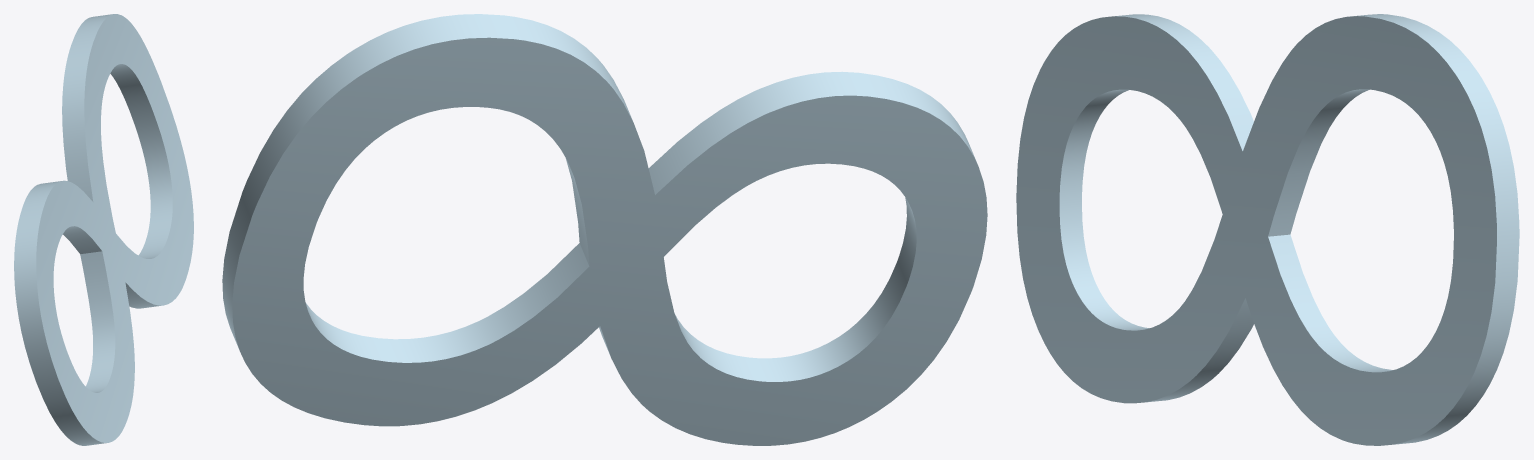
File: Number_8.gltf
The picture shows the model from 3 angles, left to right: view 1: azimuth 30°, elevation 25°; view 2: azimuth 150°, elevation 25°; view 3: azimuth 270°, elevation 25°; orthographic projection. The views are drawn at different scales.
Parts seen in each view (by area): view 1: Sub_2_Cell_3_3_Number_8; view 2: Sub_2_Cell_3_3_Number_8; view 3: Sub_2_Cell_3_3_Number_8.
Boxes of the visible parts, <box> form: Sub_2_Cell_3_3_Number_8: <box>14,14,193,445</box>; Sub_2_Cell_3_3_Number_8: <box>222,14,987,445</box>; Sub_2_Cell_3_3_Number_8: <box>1016,14,1519,445</box>.
Size of the model in its own units: 0.0199 by 0.0187 by 0.0193.
